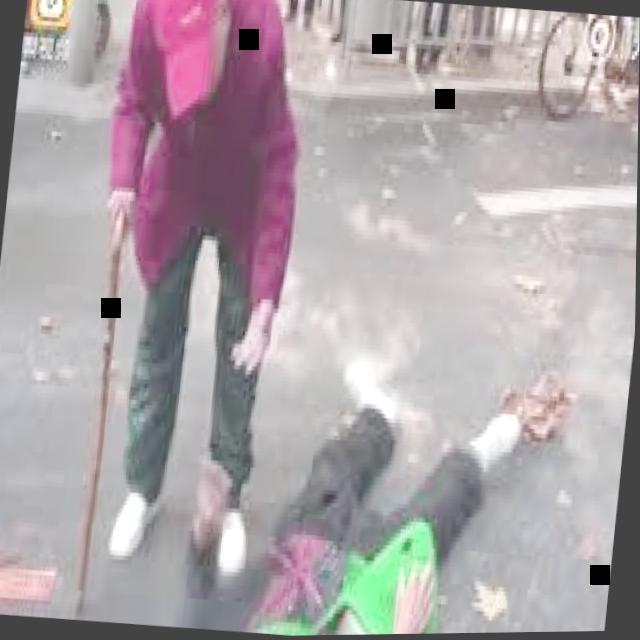Fall-Detected: (134, 300, 557, 638)
